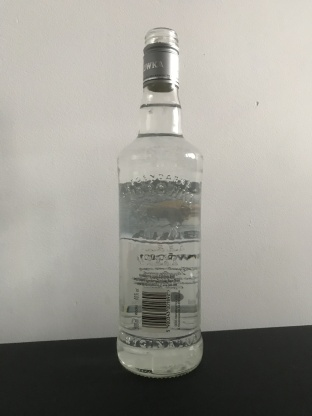nakretka: (140, 24, 181, 93)
